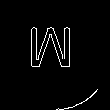M_S: (32, 30, 78, 80)
